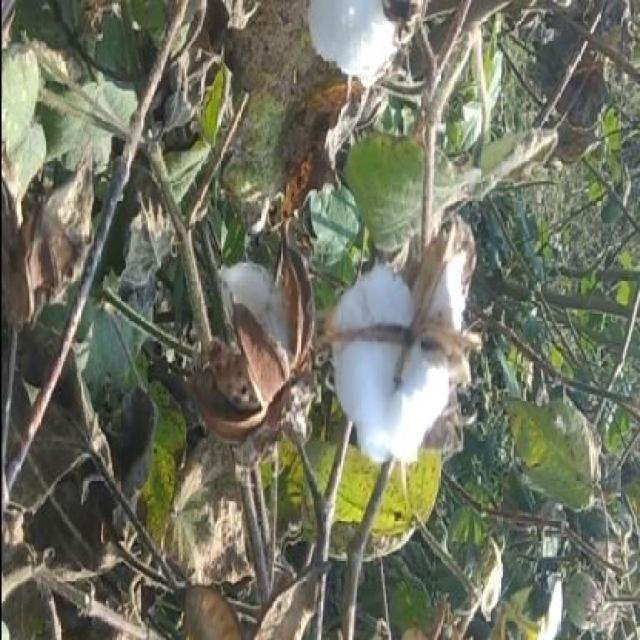cotton_ready: (307, 196, 498, 489)
